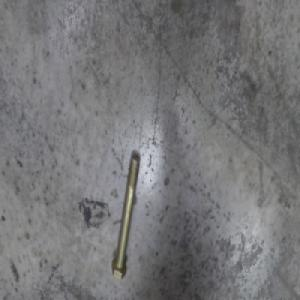Bolt: (112, 152, 142, 275)
